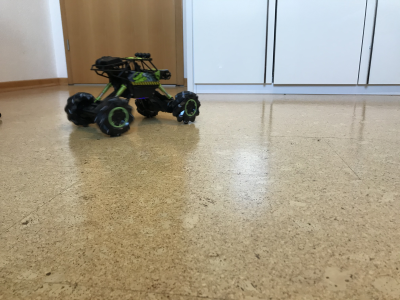remote control car: (63, 50, 203, 139)
